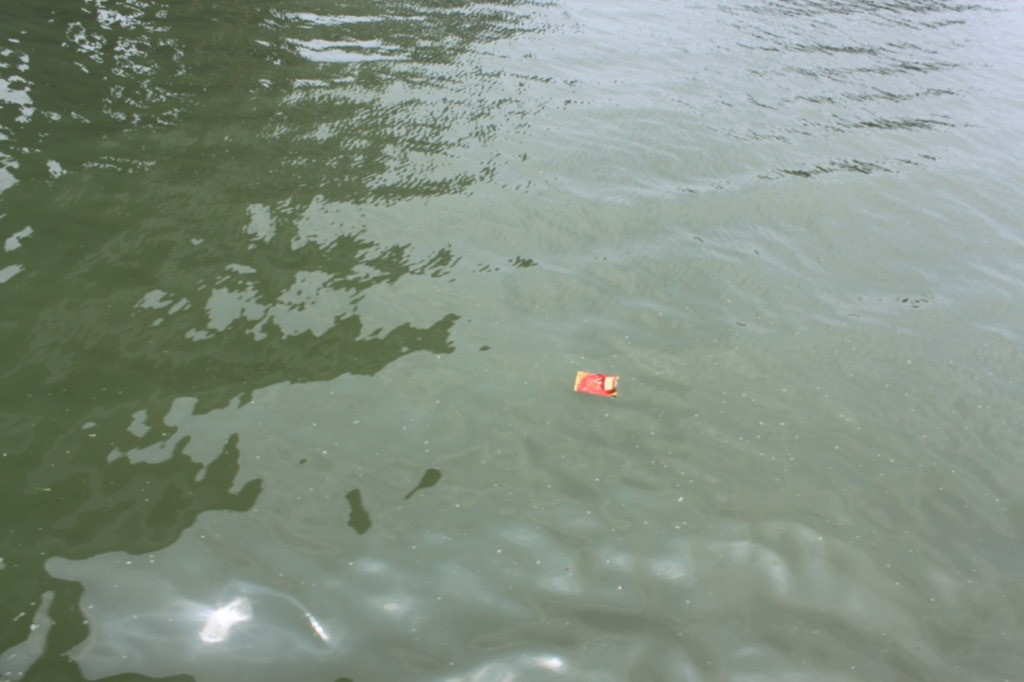plastic: (550, 348, 634, 414)
structure: (1, 1, 601, 681)
